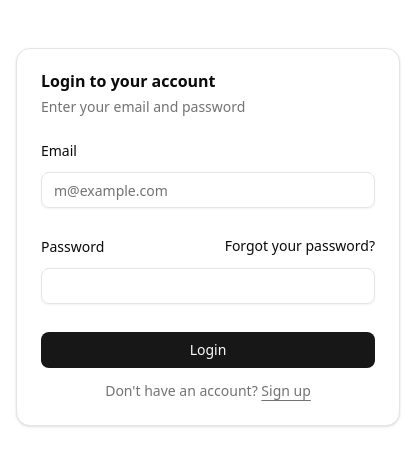
Test: Login + MFA + Signup Flow › should handle invalid email and incorrect password
This screenshot has width=417, height=476.
Type "wrong.email@gmail.com" into the field with id "email". click: (208, 190)
box: x1=41 y1=172 x2=375 y2=208
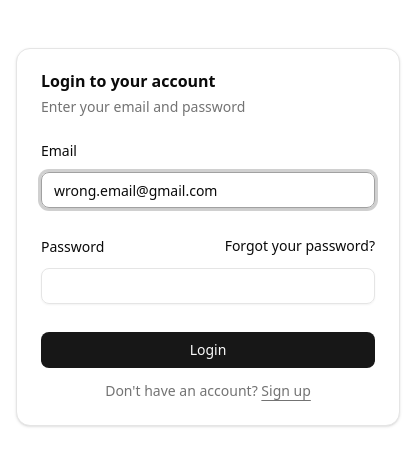
Type "12345678" into the password field labelled "Password". click: (208, 286)
box: x1=41 y1=268 x2=375 y2=304
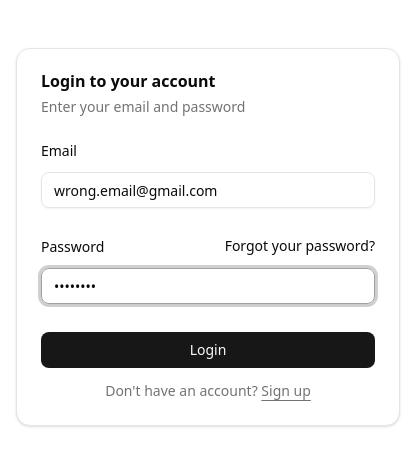
Click the submit button. click: (208, 350)
box: x1=41 y1=332 x2=375 y2=368
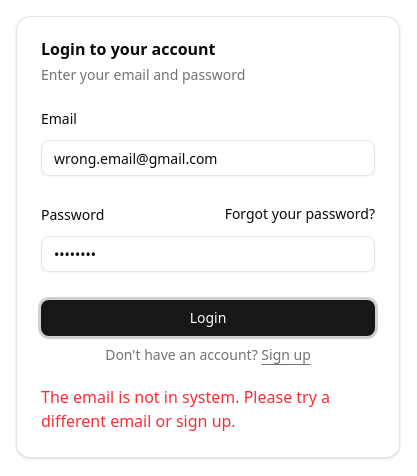
expect the text "The email is not in system" is shown: met, box x1=41 y1=386 x2=330 y2=432
Replace the text in the field with id "email" with "user.1@gmail.com". click: (208, 158)
box: x1=41 y1=140 x2=375 y2=176
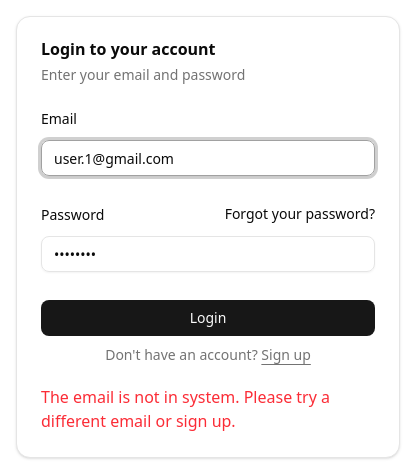
Type "wrongpass" into the password field labelled "Password". click: (208, 254)
box: x1=41 y1=236 x2=375 y2=272
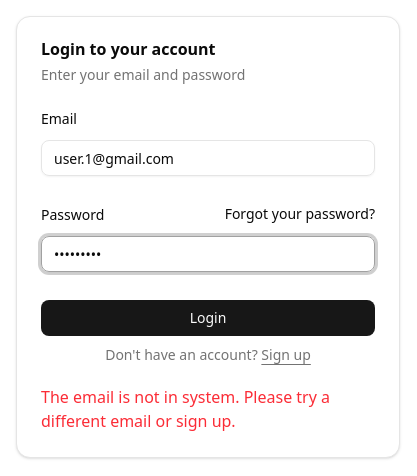
Click the submit button. click: (208, 318)
box: x1=41 y1=300 x2=375 y2=336
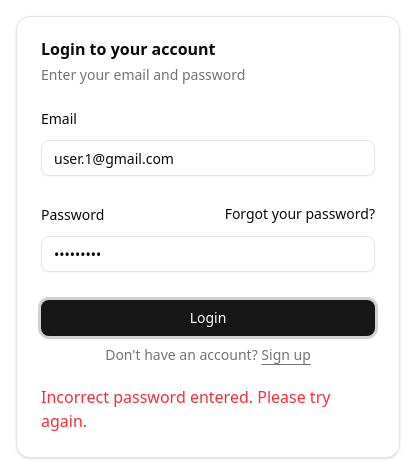
expect the text "Incorrect password entered" is shown: met, box x1=41 y1=386 x2=330 y2=432
